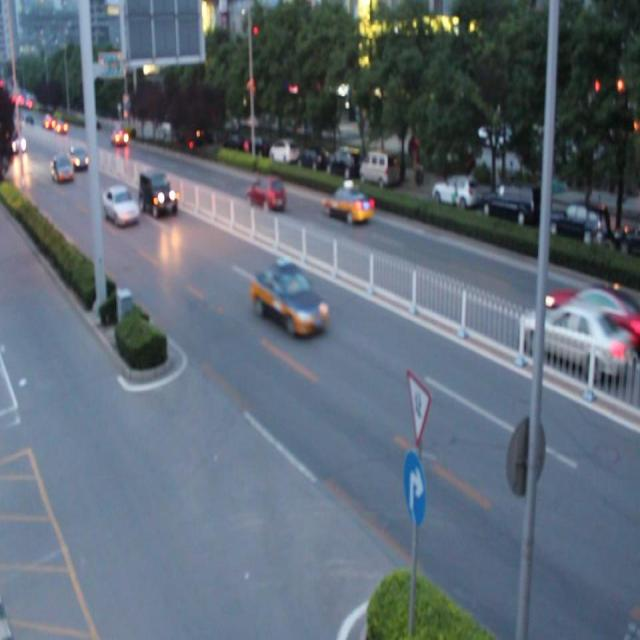car: (524, 312, 614, 372), (543, 289, 640, 344), (250, 269, 324, 335), (325, 190, 371, 226), (139, 173, 176, 216), (248, 177, 285, 212), (104, 187, 138, 224)
